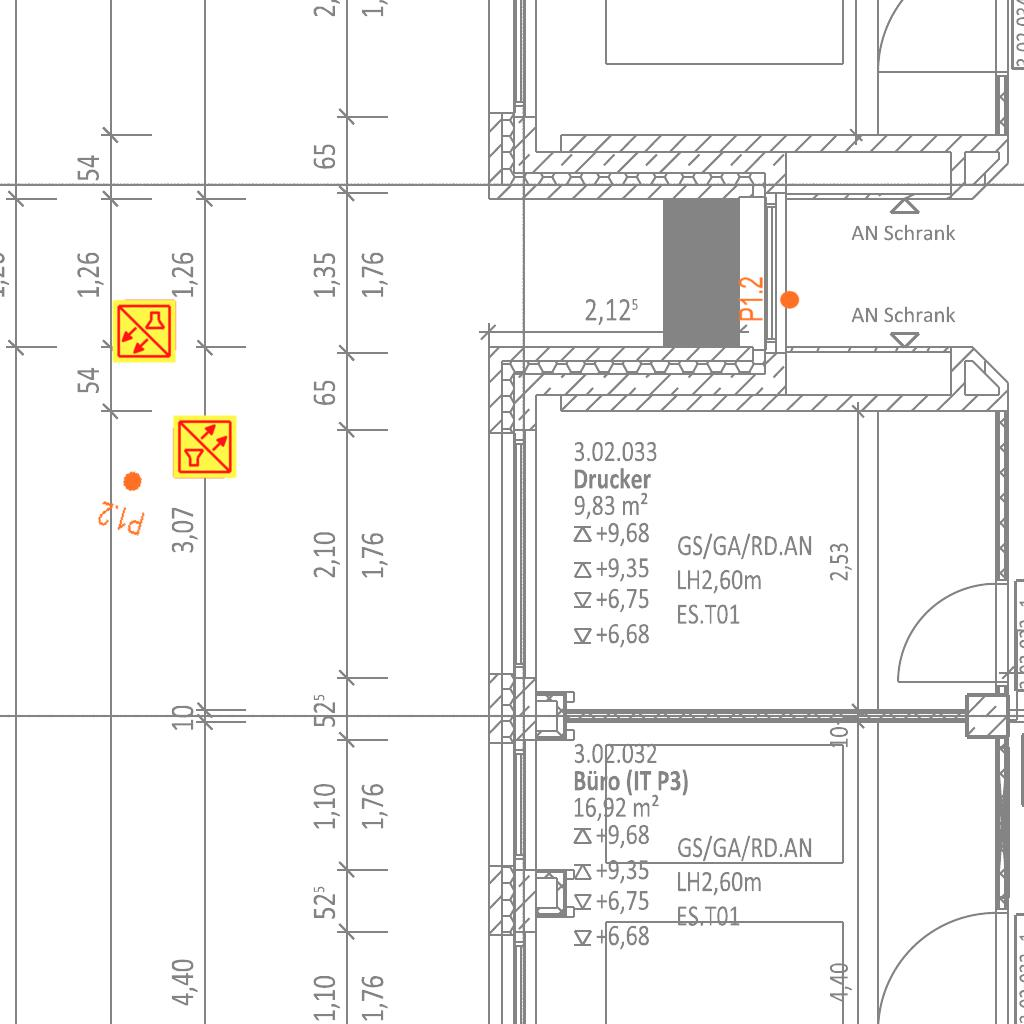Downlight_LED_Einbauleuchten_Flur: (95, 463, 157, 539), (737, 276, 801, 322)
OKW_Multisensormelder_(Kombination_optischer_Rauch-Kahlenmonoxid_Waerme-Melder): (111, 298, 177, 364), (172, 414, 238, 480)
